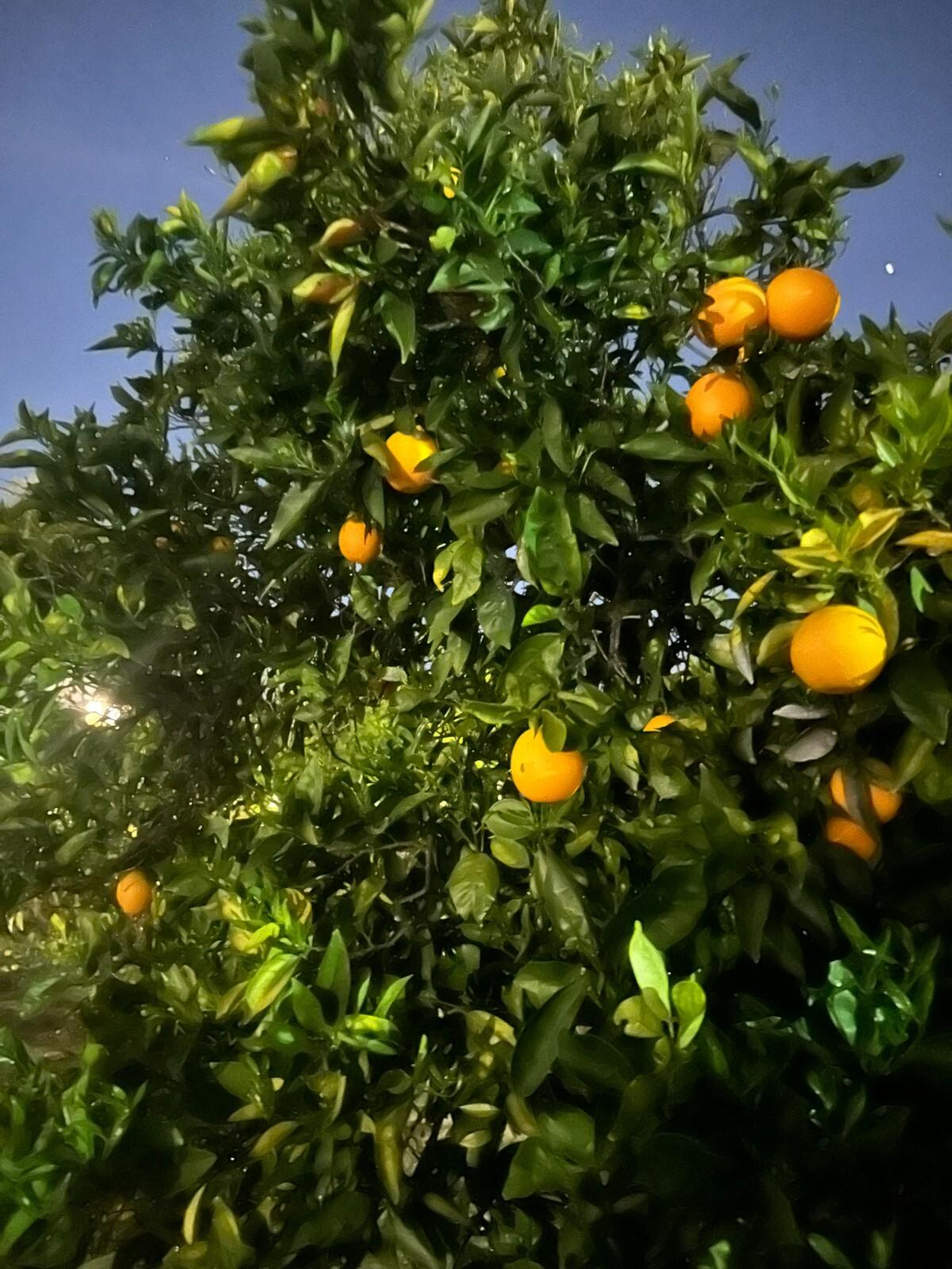orange: (790, 604, 886, 693), (693, 276, 769, 351), (511, 730, 584, 803), (766, 268, 839, 341), (685, 371, 756, 445), (832, 756, 903, 821), (381, 427, 441, 494), (818, 814, 884, 871), (338, 516, 384, 564), (117, 870, 152, 915), (644, 714, 679, 732)
